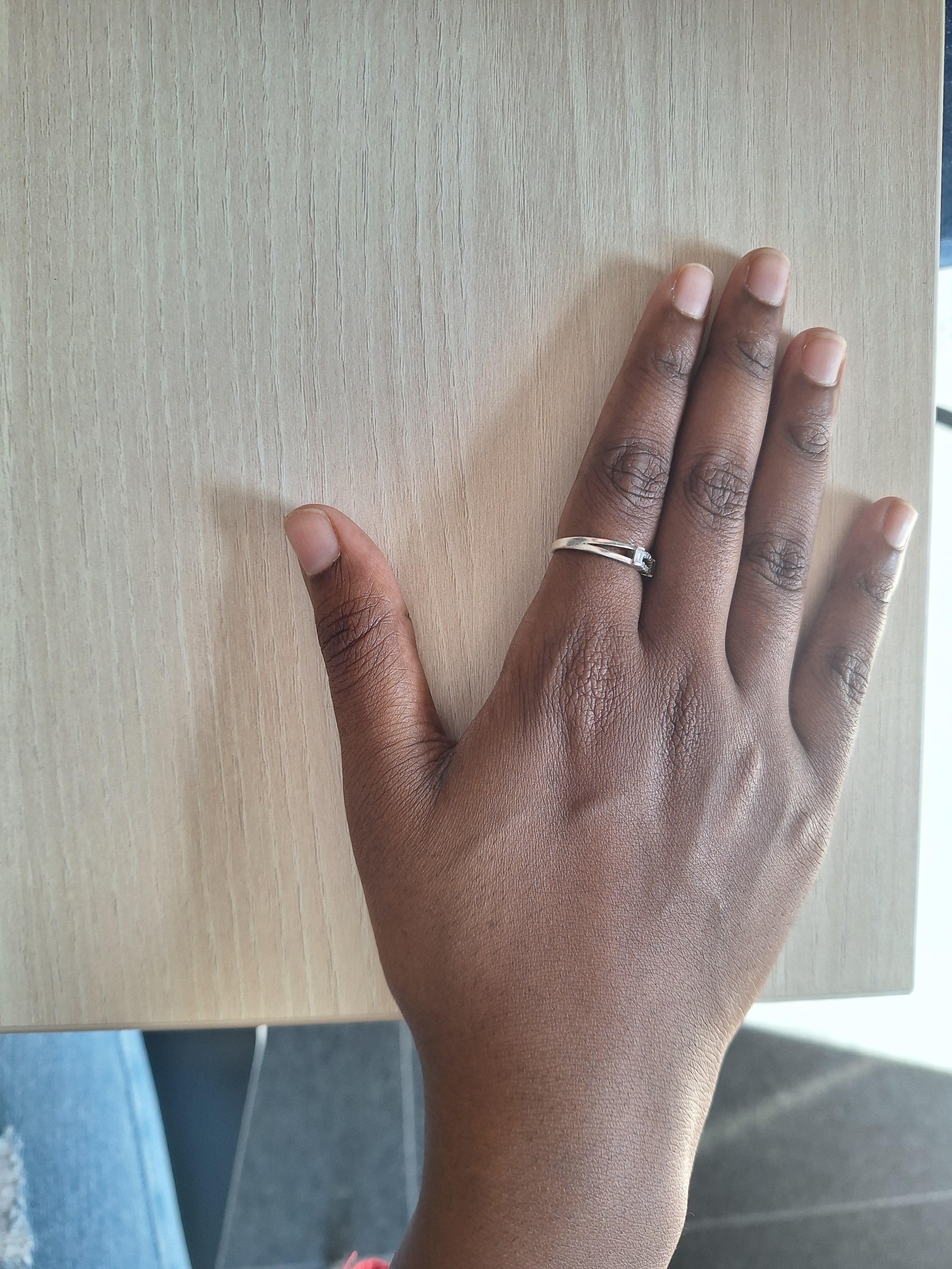Fingernail: (284, 509, 339, 577), (747, 248, 791, 305), (802, 332, 847, 385), (674, 264, 716, 319), (884, 502, 918, 549)
